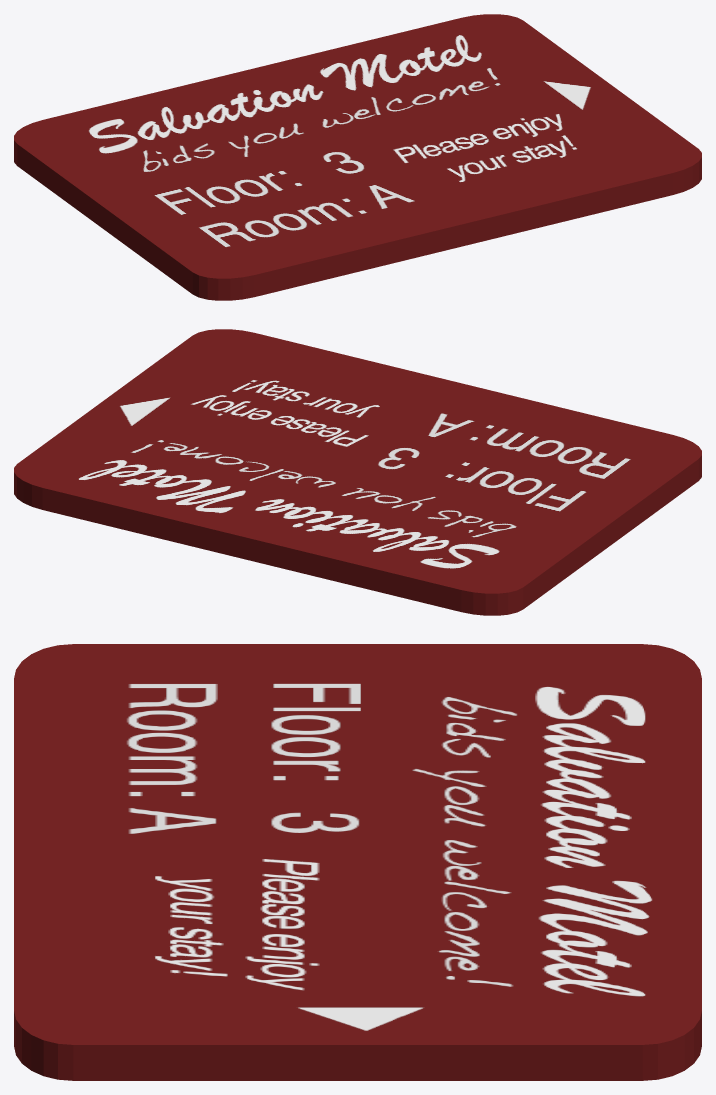
The model's file is KeyCard.fbx.
3 views of the same model, one above another, from view 1: azimuth 30°, elevation 25°; view 2: azimuth 150°, elevation 25°; view 3: azimuth 270°, elevation 25° (orthographic). The views are drawn at different scales.
Visible parts, largest first — view 1: Cube; view 2: Cube; view 3: Cube.
Boxes of the visible parts, left/top/right/bottom form: Cube: left=14, top=14, right=701, bottom=300; Cube: left=14, top=329, right=701, bottom=615; Cube: left=14, top=644, right=701, bottom=1080.
Size of the model in its own units: 10.96 by 0.458 by 7.95.
